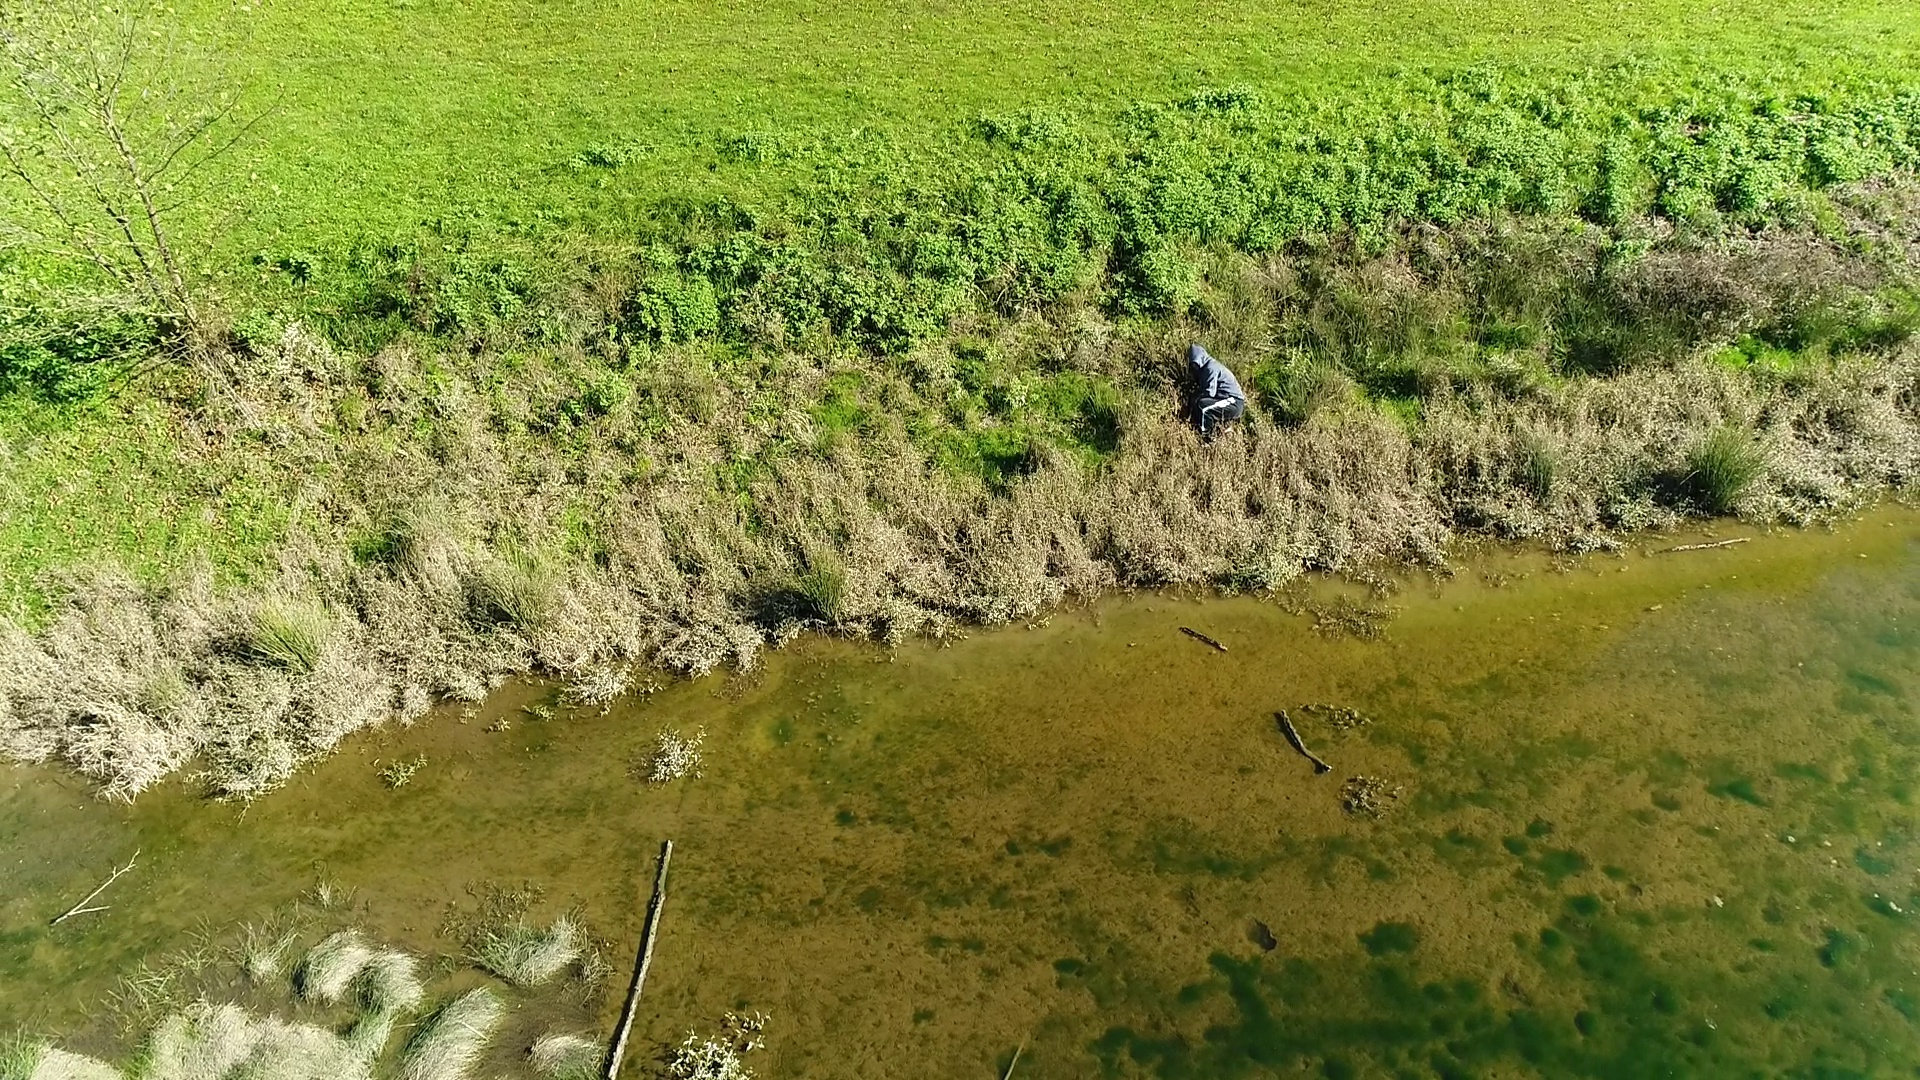not_defined: (1187, 342, 1244, 444)
